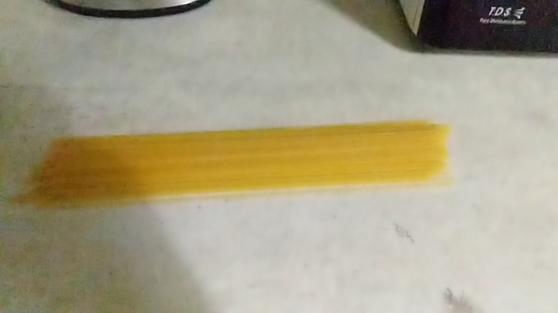spaghetti: (22, 101, 458, 229)
